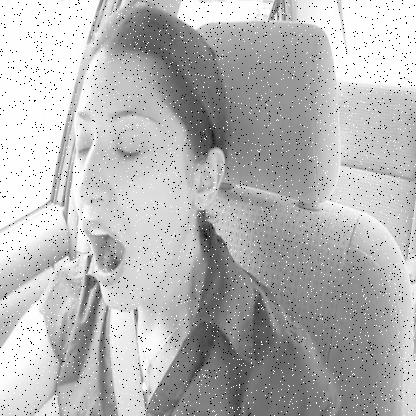seatbelt: (20, 21, 251, 416)
